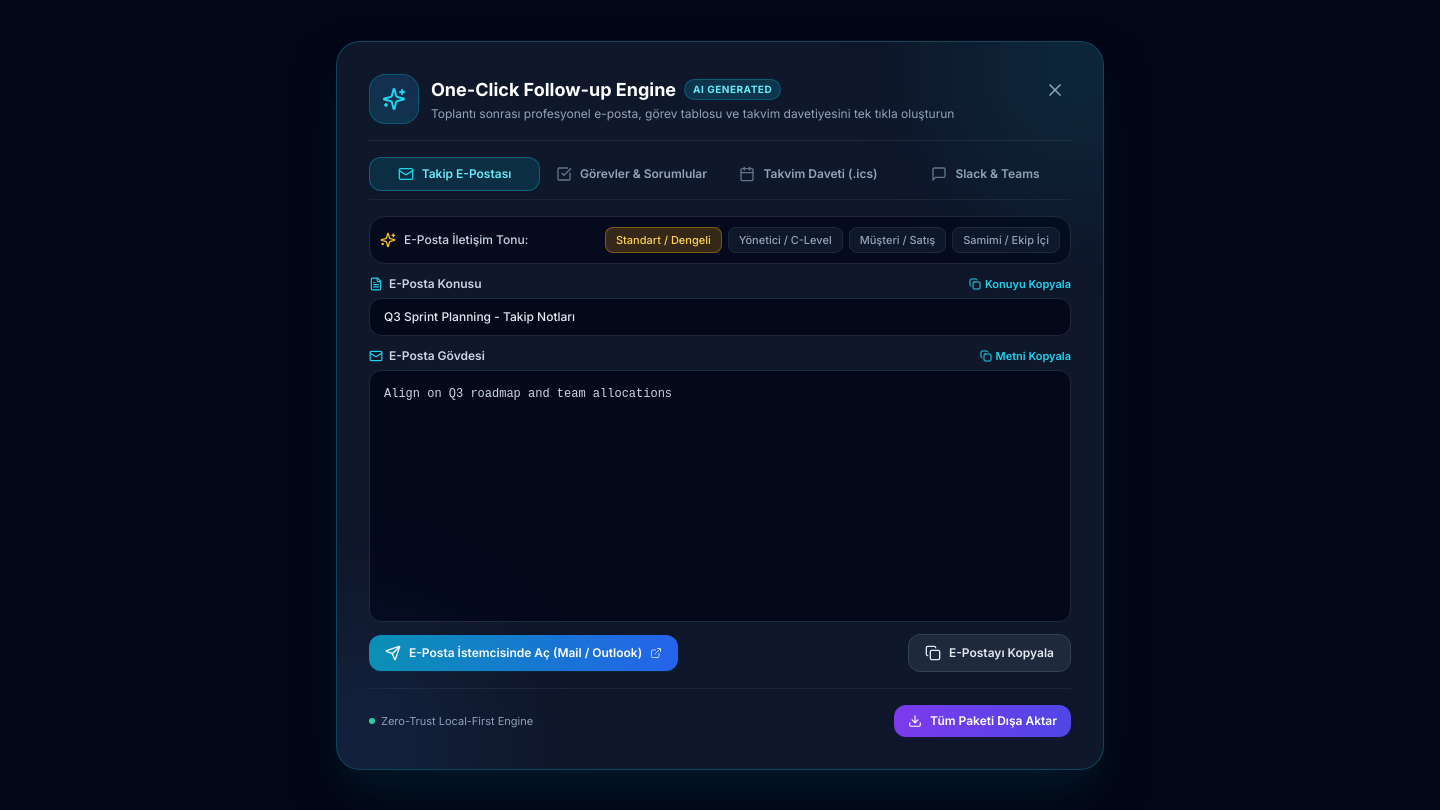
Test: FollowUpModal Component › renders empty state in Action Items tab when meeting has no action items
The image size is (1440, 810).
Click the tab "Görevler & Sorumlular" at (632, 174), box [546, 156, 717, 190]
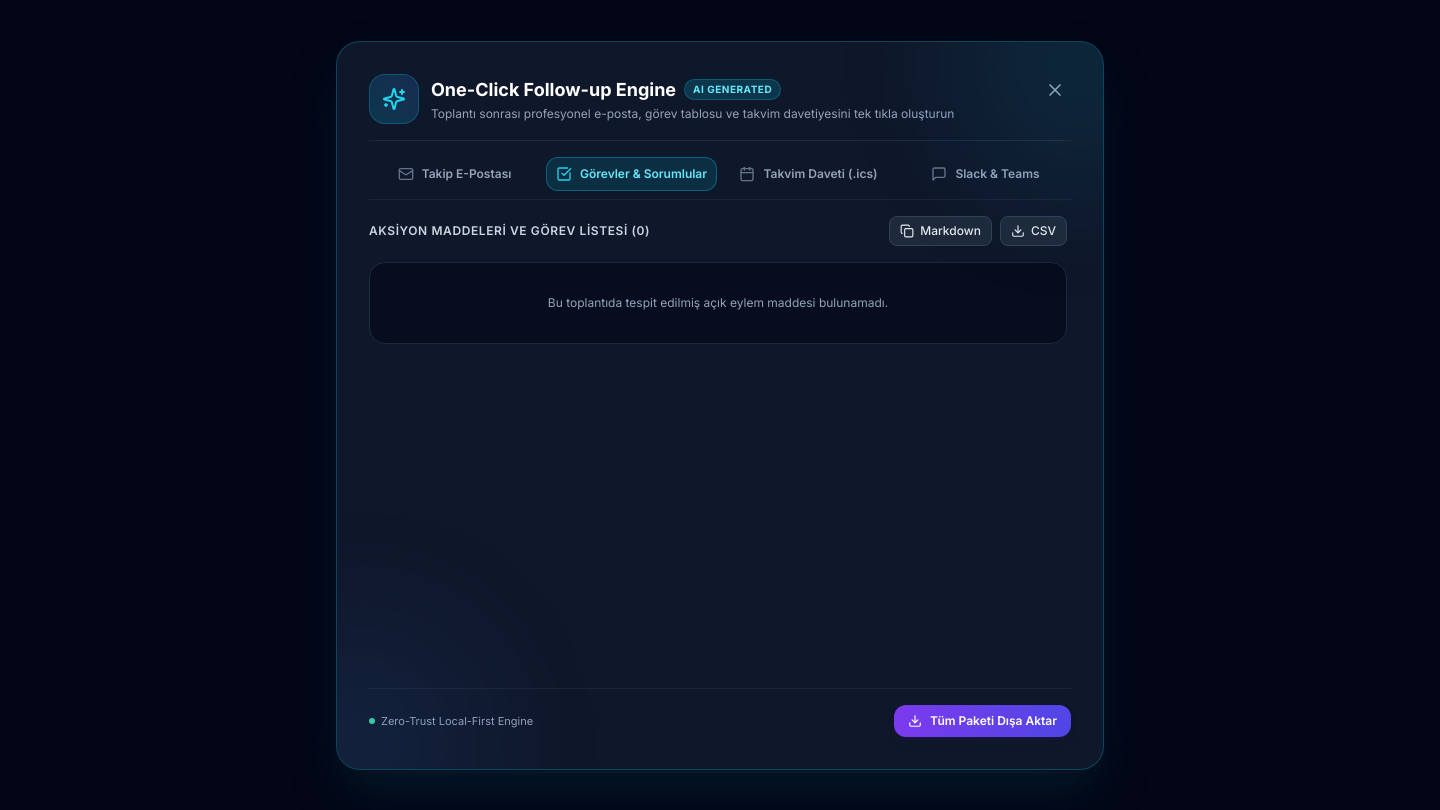
Expected: the text "Bu toplantıda tespit edilmiş açık eylem maddesi bulunamadı." is shown, [369, 262, 1067, 344]
